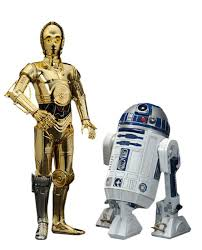r2d2: (95, 103, 191, 239)
